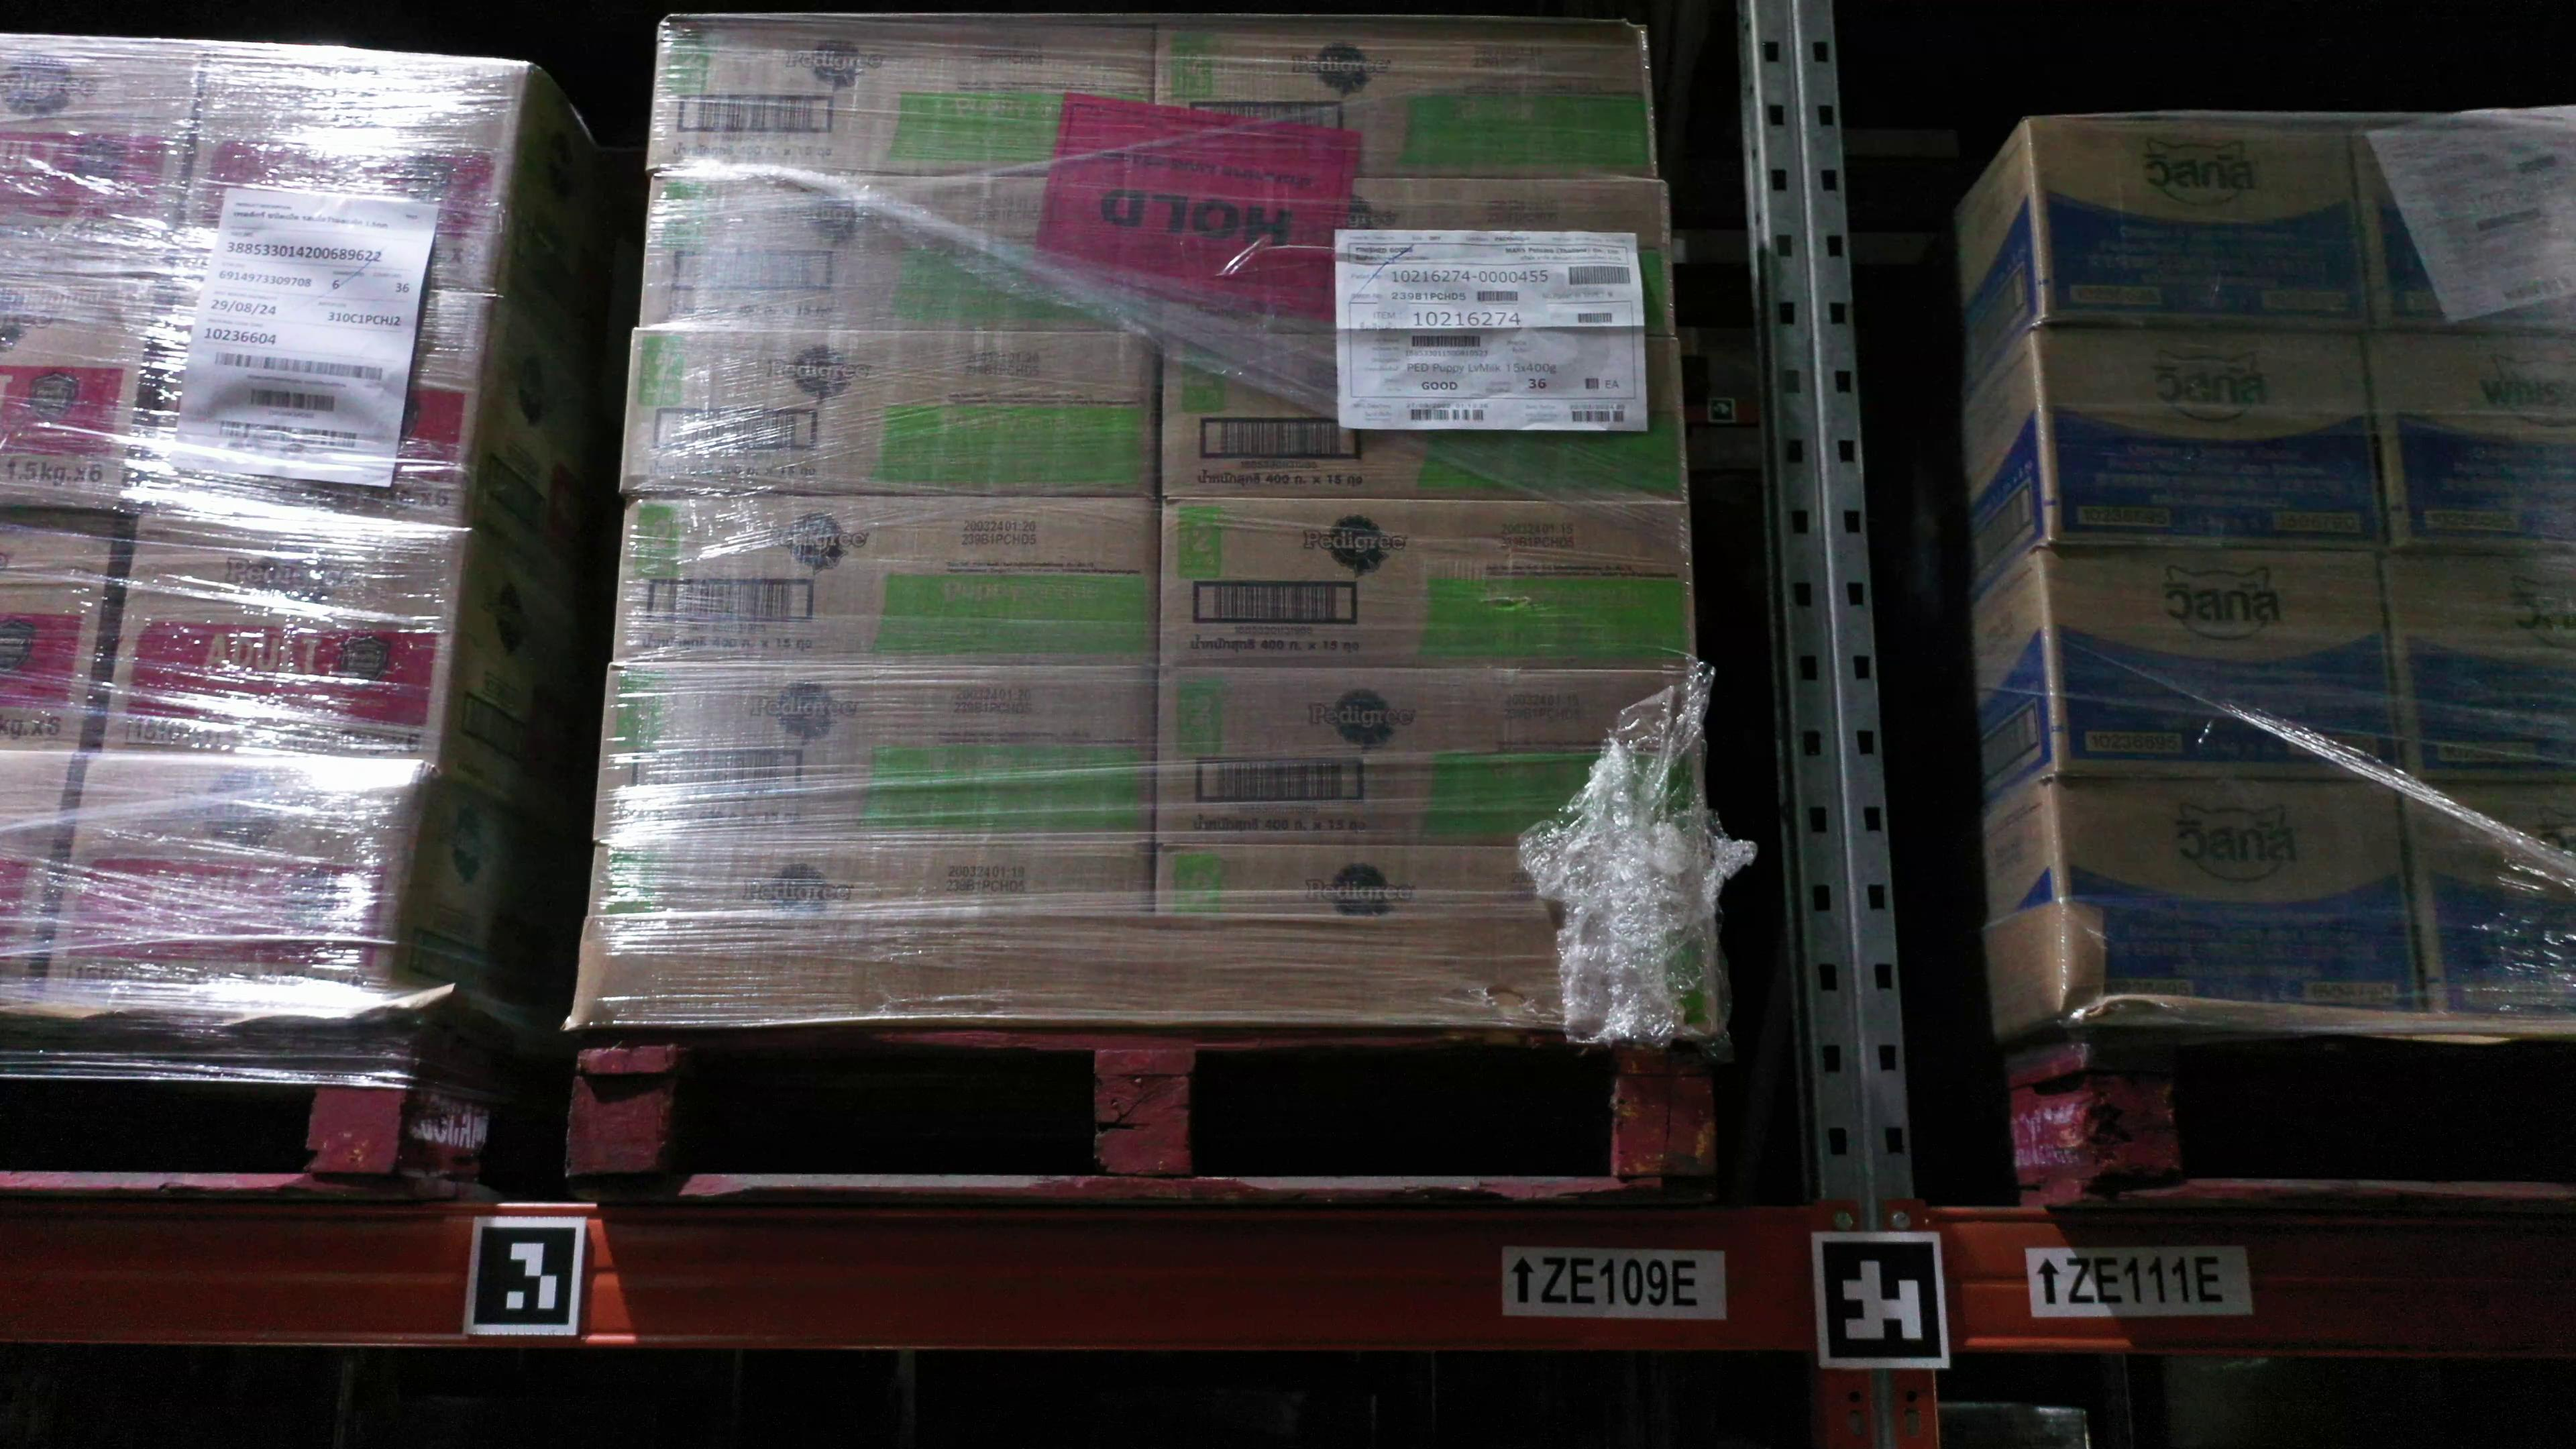-: (1155, 846, 1720, 1033), (591, 663, 1155, 847), (1152, 669, 1706, 849), (41, 748, 432, 1003), (1154, 494, 1695, 678), (99, 502, 465, 768), (609, 494, 1162, 669), (166, 37, 533, 297), (1155, 333, 1688, 506), (617, 324, 1159, 494), (2051, 780, 2431, 1017), (136, 278, 494, 527), (646, 14, 1154, 189), (1152, 9, 1658, 184), (635, 172, 1155, 336), (2042, 545, 2406, 777), (1154, 179, 1672, 340), (2028, 324, 2383, 552), (2024, 117, 2373, 331), (2350, 111, 2576, 336), (0, 25, 203, 272), (2365, 329, 2576, 554), (586, 842, 1155, 924), (2378, 548, 2576, 782), (2399, 780, 2576, 1023), (0, 265, 163, 510), (0, 508, 117, 752), (0, 748, 83, 1010)
